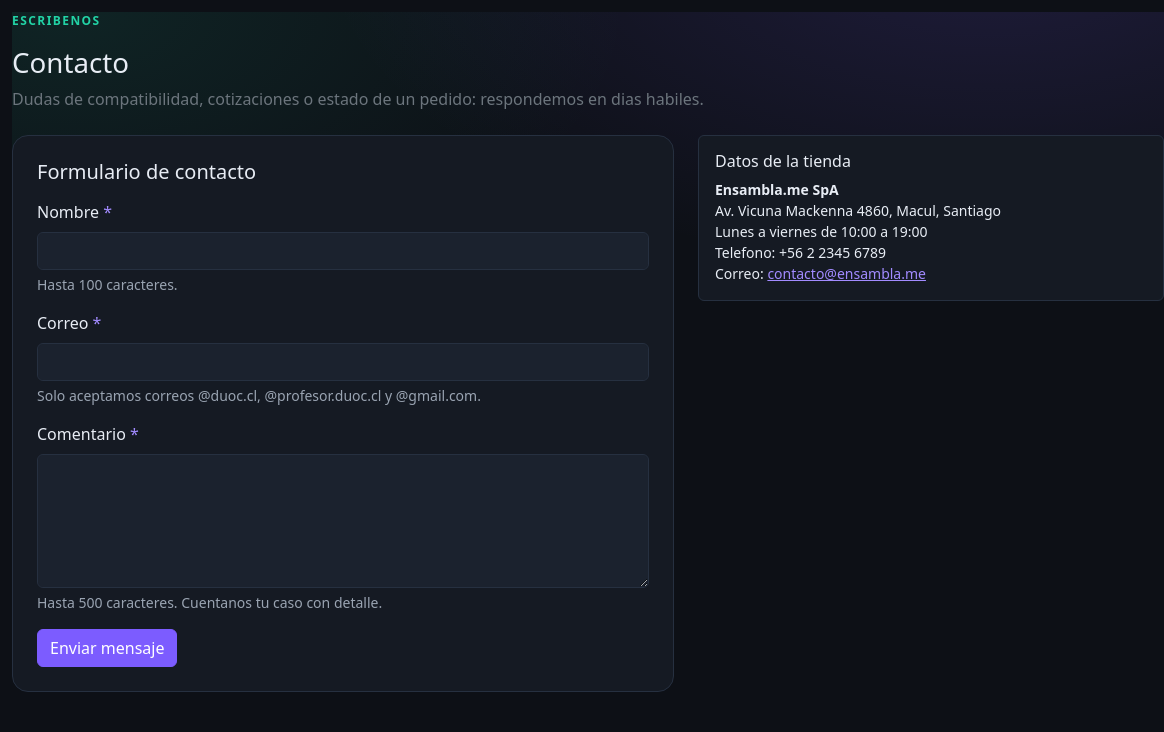
Test case: Contacto › enviar vacio muestra un error por campo y ningun aviso de exito
The image size is (1164, 732).
Step 1. Click the button "Enviar mensaje" → (107, 648), box [37,629,178,667]
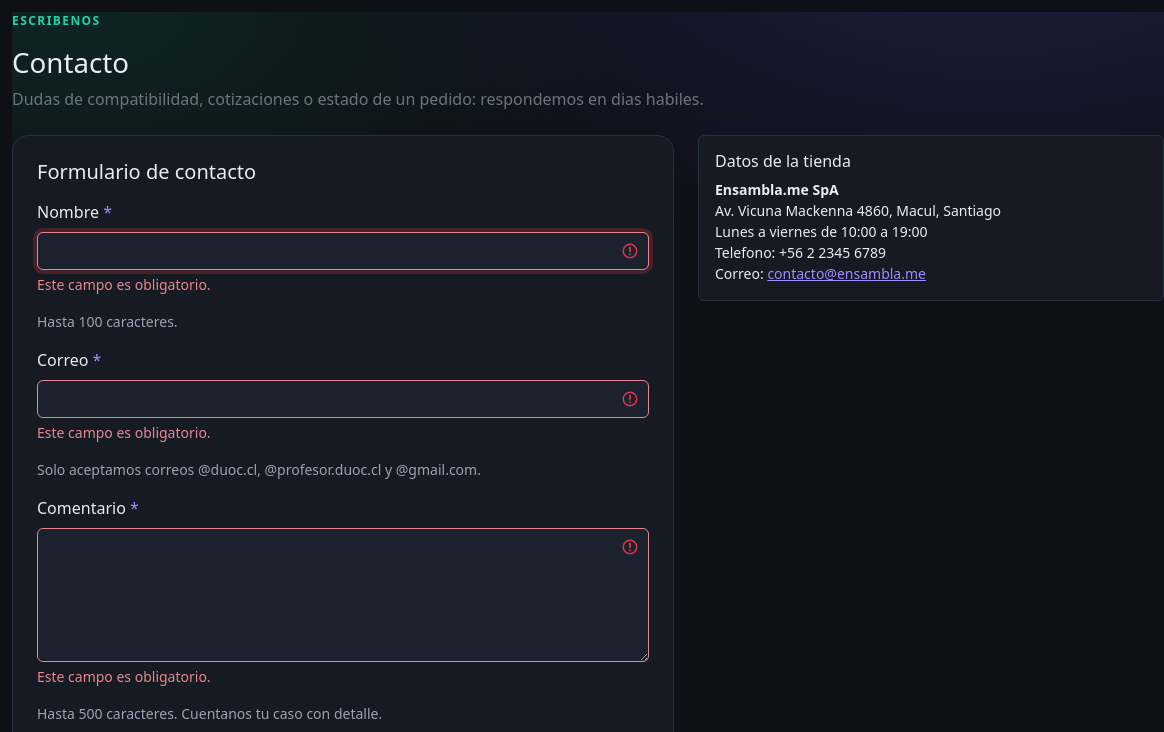
expect the text "Este campo es obligatorio." is shown 3 times: met, box [37,275,211,294]; [37,423,211,442]; [37,667,211,686]
